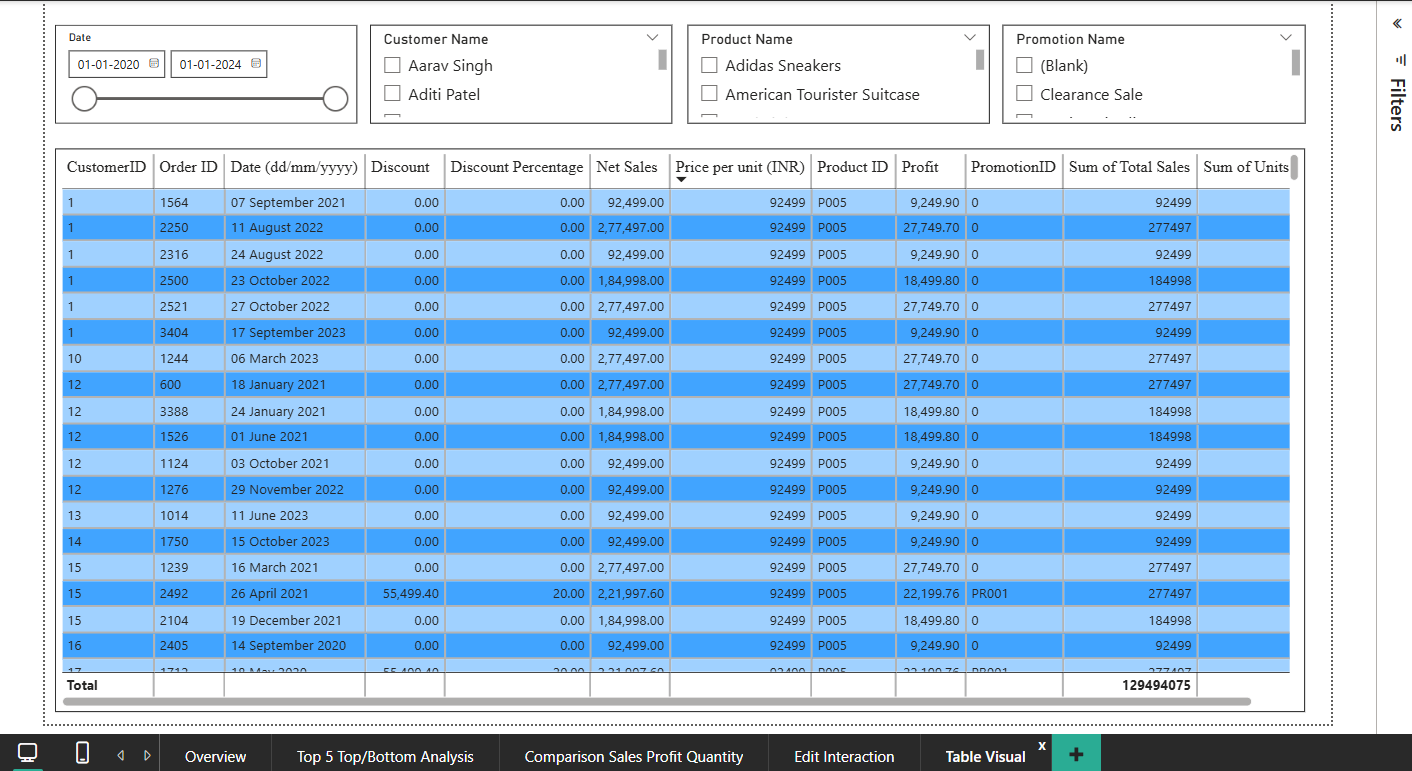

Layout of this report page (visuals, bound fields, positions):
{"tool":"powerbi","page":{"name":"Table Visual","canvas":[1280,720],"ordinal":4},"visuals":[{"type":"tableEx","fields":{"Values":["Fact Table.CustomerID","Fact Table.Order ID","Fact Table.Date (dd/mm/yyyy)","Fact Table.Discount Value","Fact Table.Discount Percentage","Fact Table.Net Sales","Fact Table.Price per unit (INR)","Fact Table.Product ID","Fact Table.Profit","Fact Table.PromotionID","Sum(Fact Table.Total Sales)","Sum(Fact Table.Units Sold)"]},"box":[10,146.8,1244,561],"z":0},{"type":"slicer","fields":{"Values":["Date Table1.Date"]},"box":[10,23.6,301,98.3],"z":1000},{"type":"slicer","fields":{"Values":["Dim Customers.Customer Name"]},"box":[323.4,23.6,301,98.3],"z":2000},{"type":"slicer","fields":{"Values":["Dim Product.Product Name"]},"box":[639.4,23.6,301,98.3],"z":3000},{"type":"slicer","fields":{"Values":["Dim Promotion.Promotion Name"]},"box":[952.3,23.3,301.9,98.8],"z":4000}]}

Visuals, with their boxes on the page's 1280x720 design canvas (x1, y1, x2, y2). These are canvas units, not pixel positions in the 1412x771 screenshot, which may show the page scaled, cropped or inside an application window:
tableEx - Fact Table.CustomerID x Fact Table.Order ID: 10,147,1254,708
slicer - Date Table1.Date: 10,24,311,122
slicer - Dim Customers.Customer Name: 323,24,624,122
slicer - Dim Product.Product Name: 639,24,940,122
slicer - Dim Promotion.Promotion Name: 952,23,1254,122
